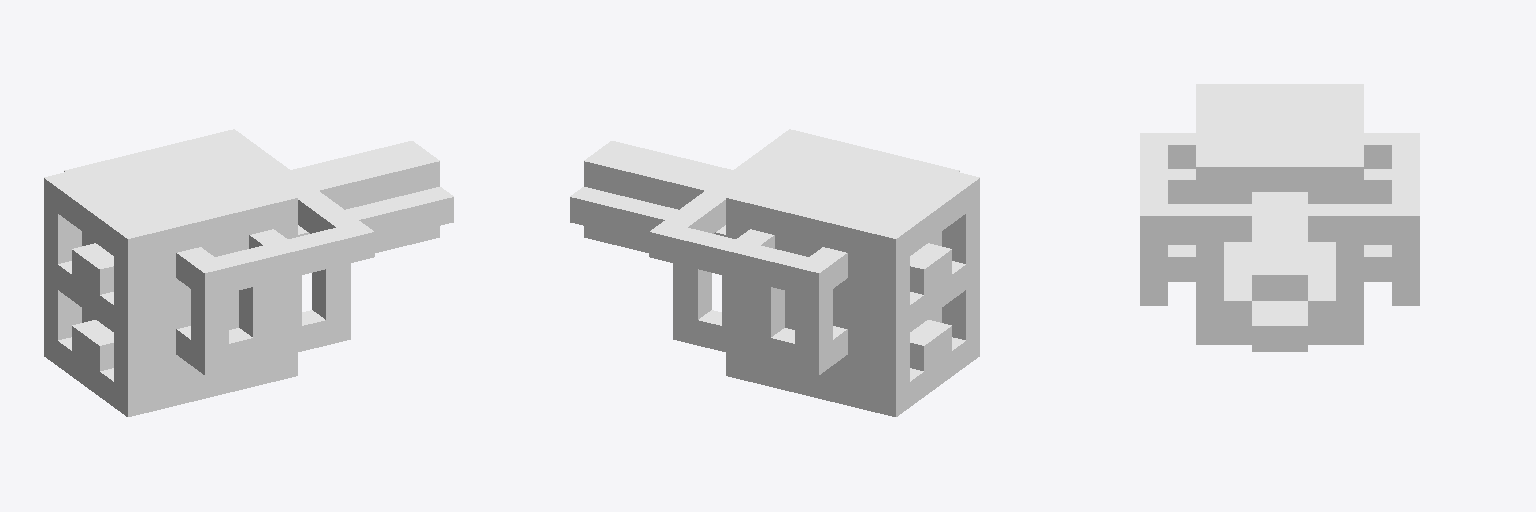
The model's file is turret_Top.obj.
3 renders of one model, left to right at view 1: azimuth 30°, elevation 25°; view 2: azimuth 150°, elevation 25°; view 3: azimuth 270°, elevation 25°, orthographic.
Size of the model in its own units: 14 by 7 by 10.